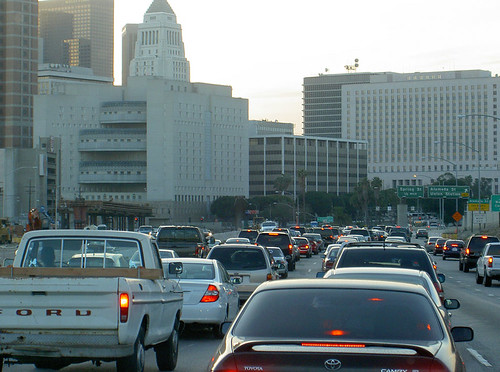building: (44, 82, 250, 210), (306, 75, 500, 189), (254, 137, 364, 209), (40, 4, 115, 80), (131, 4, 190, 79)
car: (1, 241, 177, 372), (215, 278, 459, 372), (154, 262, 236, 328), (208, 245, 275, 295), (147, 222, 206, 264), (459, 235, 499, 282), (251, 230, 295, 263), (439, 237, 469, 261)
sign: (398, 185, 470, 203)
sky: (202, 2, 496, 93)
